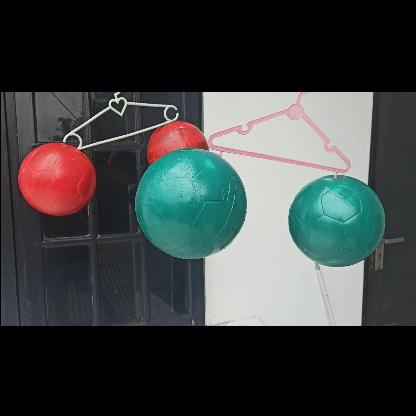red_ball: (16, 138, 92, 216)
